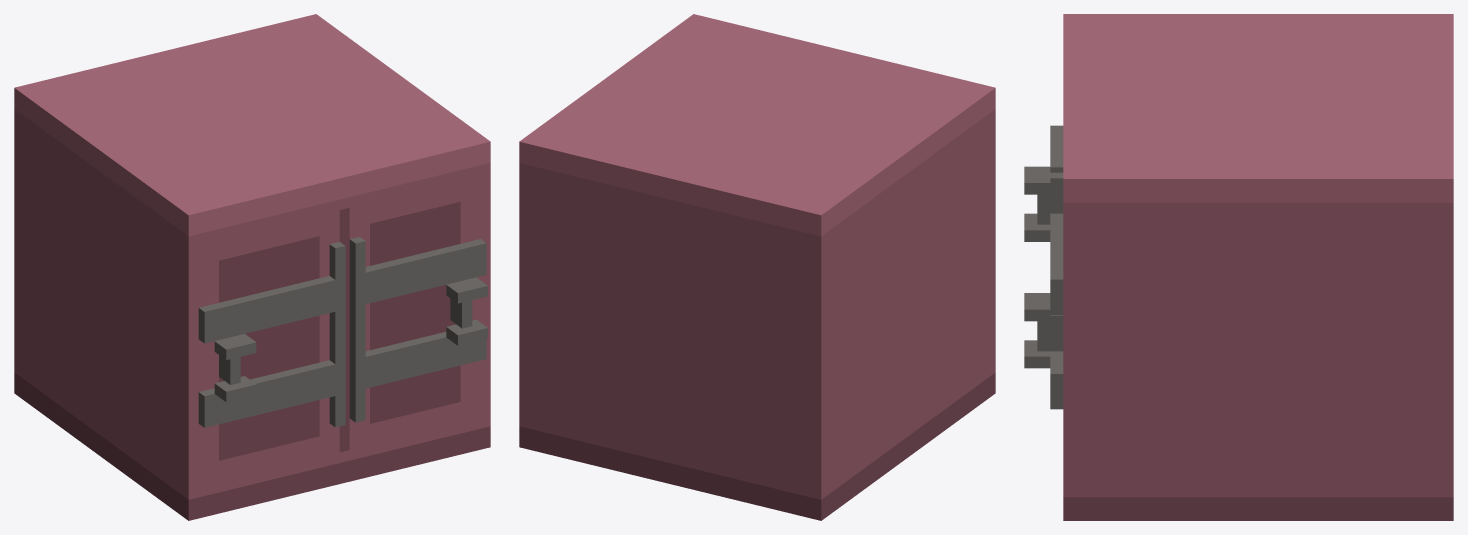
File: armario_ropa_noble_espejo_01.glb
The picture shows the model from 3 angles, left to right: view 1: azimuth 30°, elevation 25°; view 2: azimuth 150°, elevation 25°; view 3: azimuth 270°, elevation 25°; orthographic projection. The views are drawn at different scales.
Visible parts, largest first — view 1: armario_ropa_noble_espejo; view 2: armario_ropa_noble_espejo; view 3: armario_ropa_noble_espejo.
Boxes of the visible parts, x1=… form: armario_ropa_noble_espejo: x1=14, y1=14, x2=490, y2=520; armario_ropa_noble_espejo: x1=519, y1=14, x2=995, y2=520; armario_ropa_noble_espejo: x1=1024, y1=14, x2=1453, y2=520.
Bounding box in the file's own units: 2 × 1.93 × 2.2.
